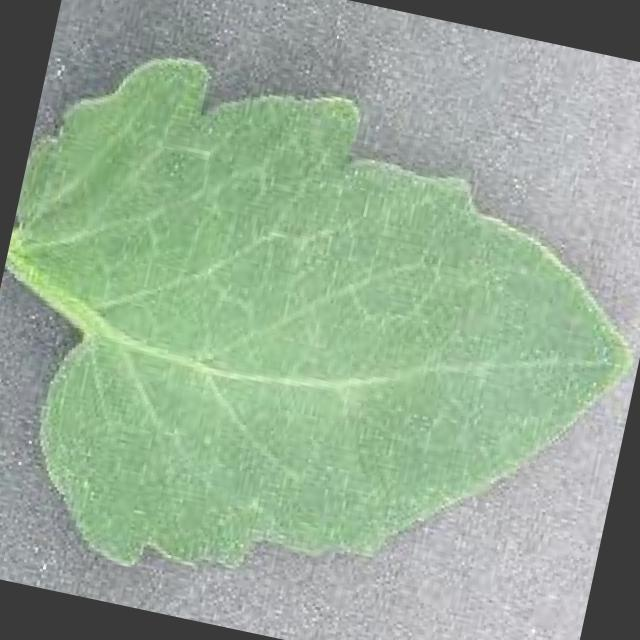healthy: (8, 53, 634, 574)
